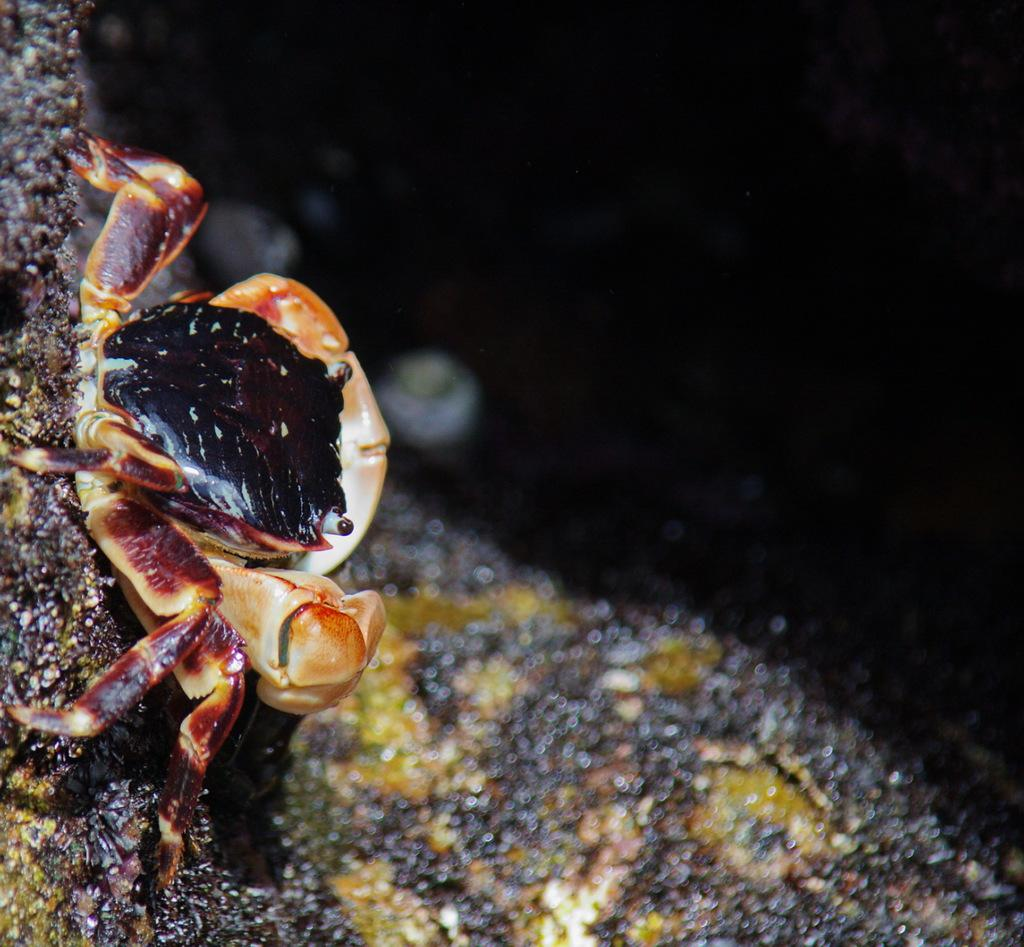Crab: (0, 126, 409, 946)
